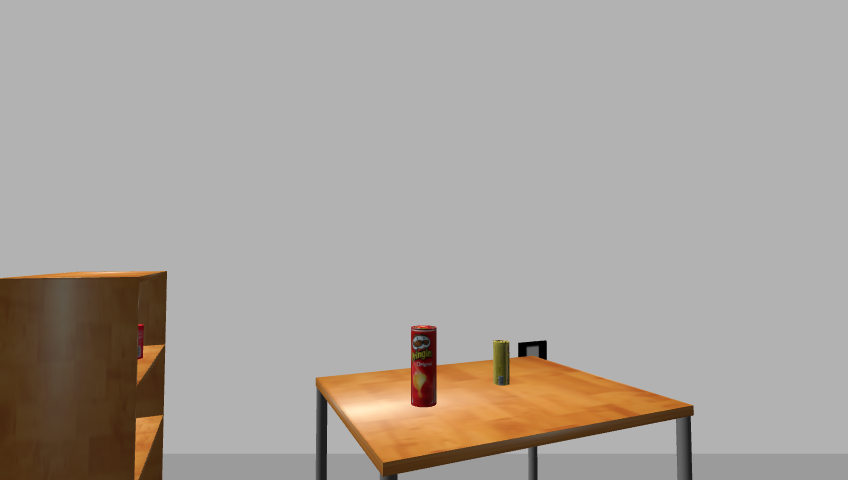aruco marker: (514, 339, 551, 363)
biscuits pack: (492, 339, 510, 387)
bookshelf: (0, 271, 172, 479)
coke can: (135, 324, 146, 360)
dinner table: (305, 357, 703, 479)
pringles can: (408, 324, 440, 409)
